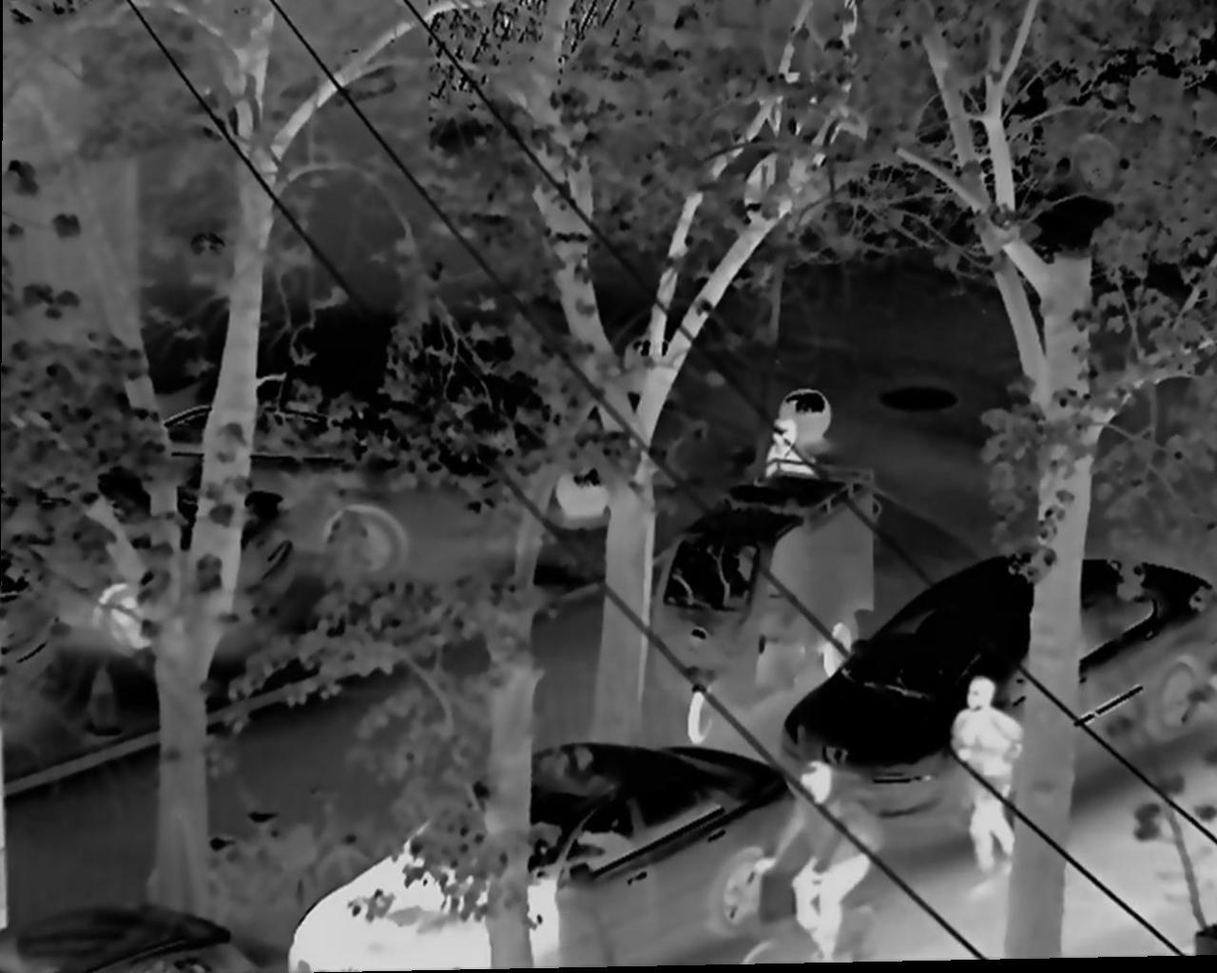person: (744, 761, 901, 963), (935, 671, 1029, 914), (754, 417, 823, 506)
